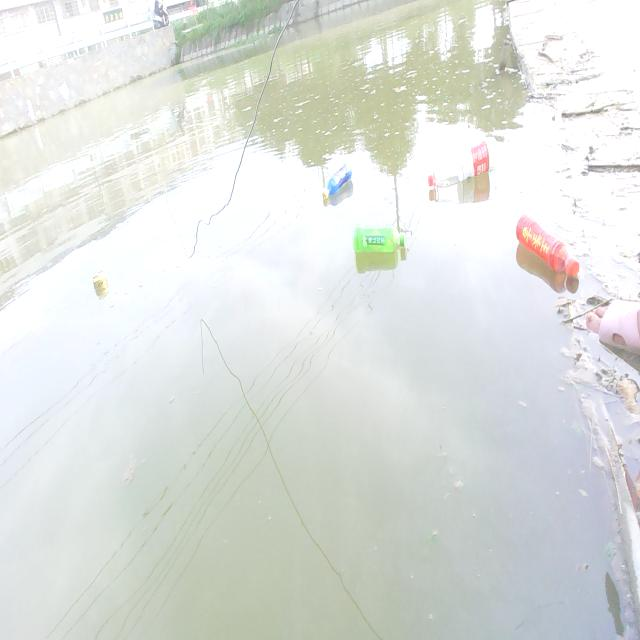bottle: (400, 121, 505, 206), (507, 204, 587, 292), (333, 219, 421, 266), (594, 286, 640, 374), (314, 156, 368, 208)
